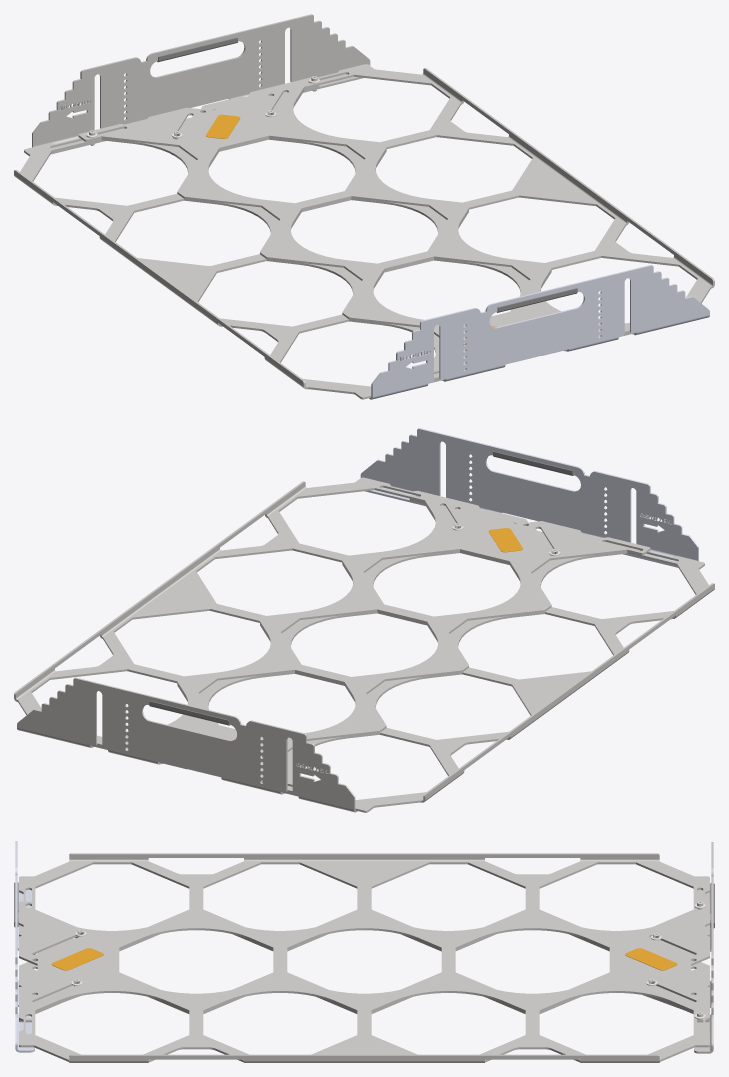
Rendered from 8IN DC DRAWER TEMPLATE (LG-8INTRAYKIT-00).glb.
3 renders of one model, top to bottom at view 1: azimuth 30°, elevation 25°; view 2: azimuth 150°, elevation 25°; view 3: azimuth 270°, elevation 25°, orthographic.
Parts seen in each view (by area): view 1: AV18006-480-02 DRAWER INSERT 8in (×2), AV18006-482-02R VERTICAL ADJUST 8in, AV18006-482-02 VERTICAL ADJUST 8in; view 2: AV18006-480-02 DRAWER INSERT 8in (×2), AV18006-482-02 VERTICAL ADJUST 8in, AV18006-482-02R VERTICAL ADJUST 8in; view 3: AV18006-480-02 DRAWER INSERT 8in (×2), AV18006-482-02 VERTICAL ADJUST 8in, LB-0139 PINCH POINT STICKER (×2), AV18006-482-02R VERTICAL ADJUST 8in.
Part boxes in pixels (left/top/right/bottom): AV18006-480-02 DRAWER INSERT 8in (×2): left=14, top=64, right=714, bottom=399; AV18006-482-02R VERTICAL ADJUST 8in: left=369, top=265, right=709, bottom=399; AV18006-482-02 VERTICAL ADJUST 8in: left=32, top=14, right=373, bottom=154; AV18006-480-02 DRAWER INSERT 8in (×2): left=14, top=477, right=714, bottom=812; AV18006-482-02 VERTICAL ADJUST 8in: left=17, top=677, right=357, bottom=812; AV18006-482-02R VERTICAL ADJUST 8in: left=360, top=428, right=698, bottom=567; AV18006-480-02 DRAWER INSERT 8in (×2): left=19, top=853, right=709, bottom=1062; AV18006-482-02 VERTICAL ADJUST 8in: left=643, top=842, right=713, bottom=1053; LB-0139 PINCH POINT STICKER (×2): left=51, top=948, right=677, bottom=970; AV18006-482-02R VERTICAL ADJUST 8in: left=15, top=841, right=79, bottom=1052.
Size of the model in its own units: 0.6579 by 0.1094 by 0.9531.
